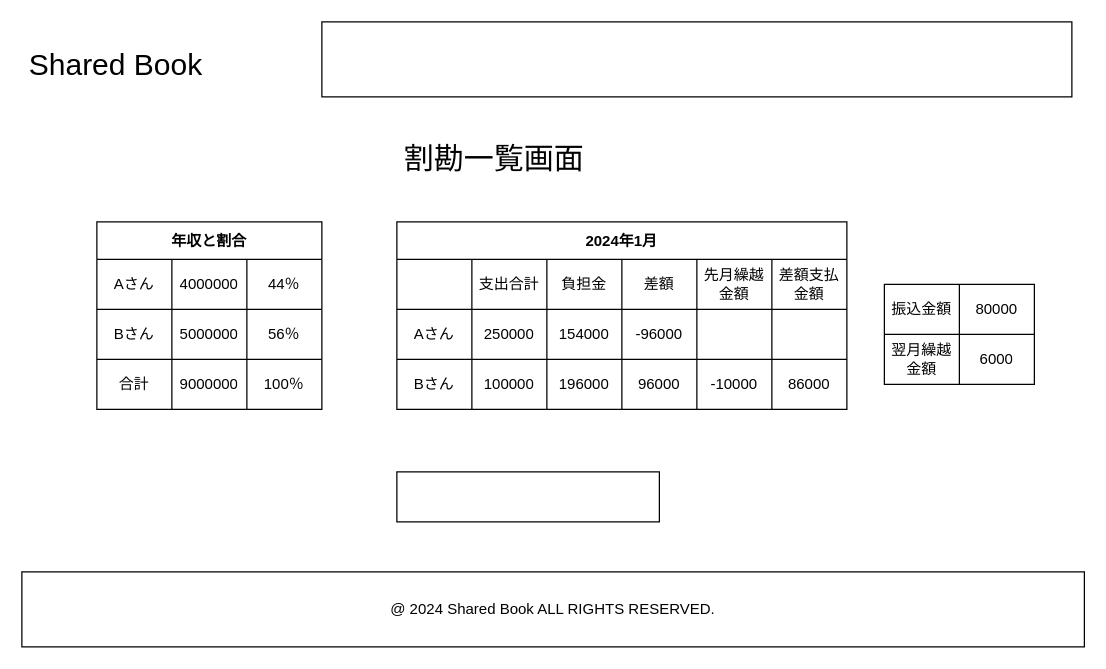
The diagram is 1106 pixels wide and 669 high, and some of its shapes have lost their labels. The shapes that lost their labels are listed below. From the top down, each one's centre as x and y in pixels, then its label:
(696,59): 収入支出一覧 項目一覧 カレンダー一覧 グラフ 割勘一覧 アカウント ログアウト
(527,496): ページネーション（月別表示）
